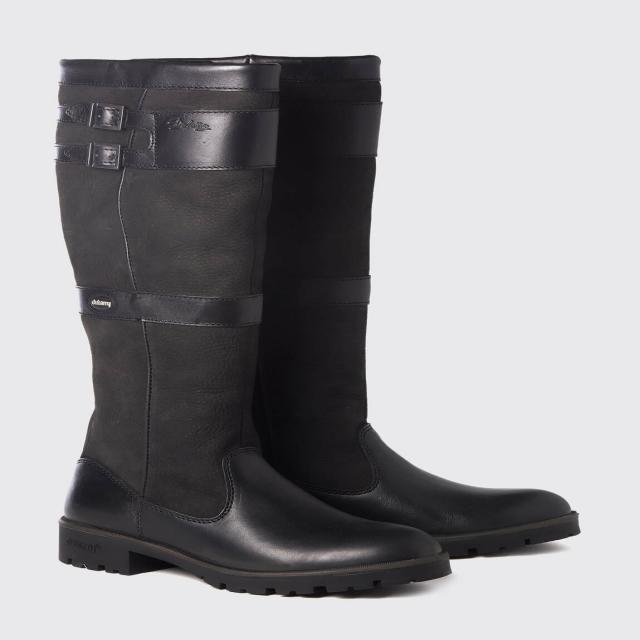boot: (19, 43, 471, 601)
